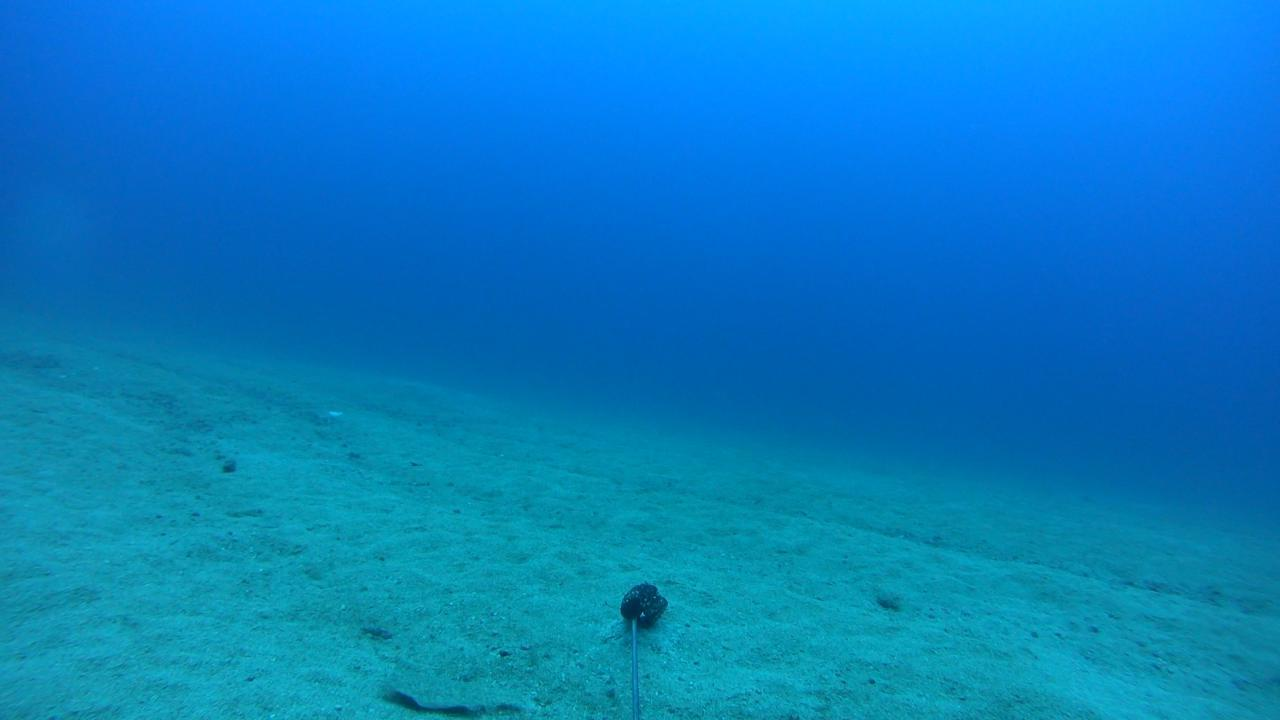bothus: (382, 664, 537, 719)
